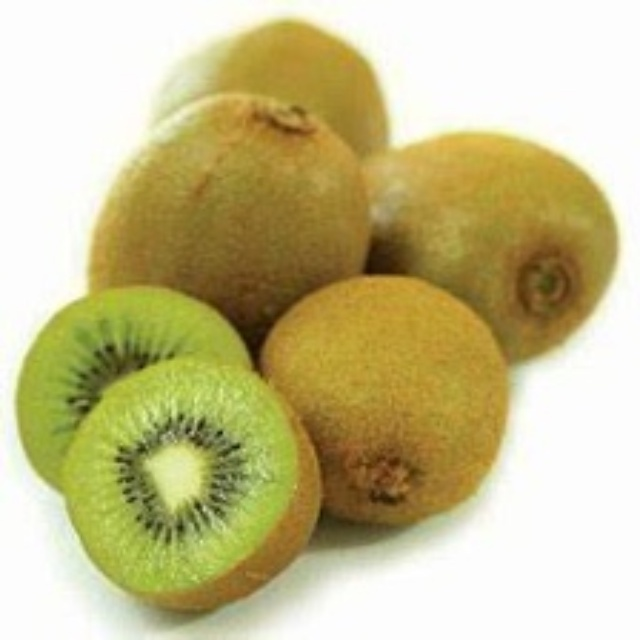kiwi: (19, 301, 331, 605), (96, 99, 367, 360), (269, 282, 512, 528), (383, 129, 605, 352)
